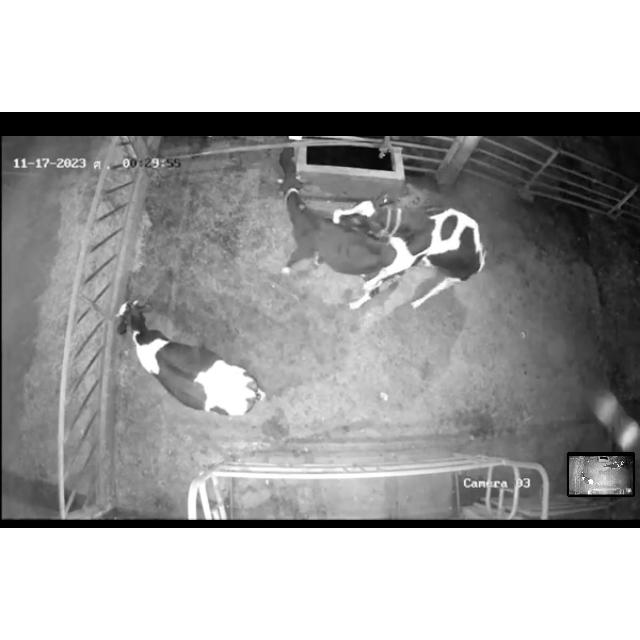ride: (332, 195, 496, 322)
